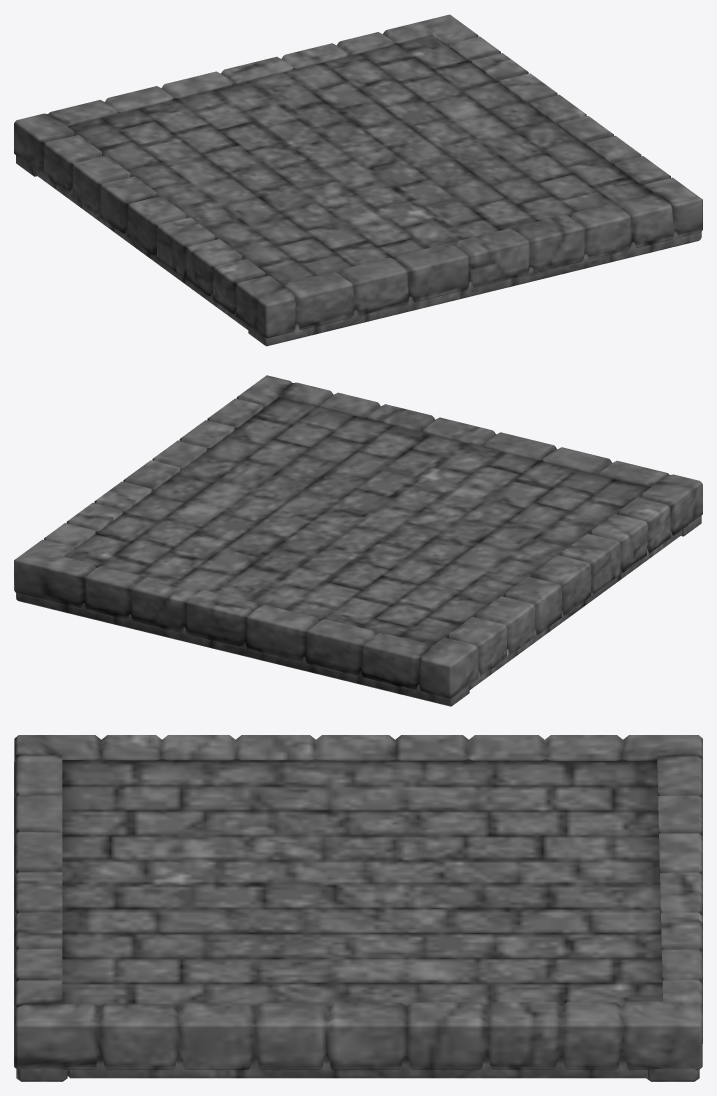
Rendered from SM_Roof_Stone_f472b3.glb.
The picture shows the model from 3 angles, top to bottom: view 1: azimuth 30°, elevation 25°; view 2: azimuth 150°, elevation 25°; view 3: azimuth 270°, elevation 25°; orthographic projection. The views are drawn at different scales.
Bounding box in the file's own units: 4.01 × 0.3845 × 4.01.
1 material, 1 textured.
